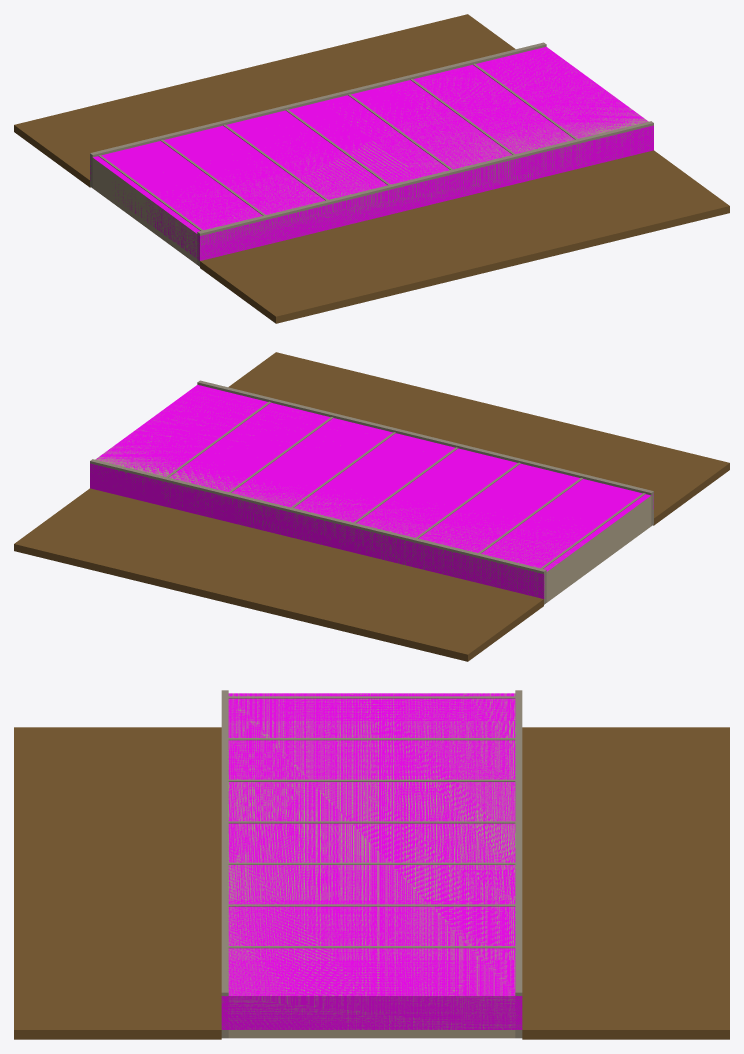
File: barrio-abajo-suelo-anden-alto.glb
3 views of the same model, one above another, from view 1: azimuth 30°, elevation 25°; view 2: azimuth 150°, elevation 25°; view 3: azimuth 270°, elevation 25° (orthographic). The views are drawn at different scales.
Visible parts, largest first — view 1: suelo_anden_alto_Tierra, COL_Anden, suelo_anden_alto_Piedra, suelo_anden_alto_AndenAlto; view 2: suelo_anden_alto_Tierra, COL_Anden, suelo_anden_alto_Piedra, suelo_anden_alto_AndenAlto; view 3: suelo_anden_alto_Tierra, COL_Anden, suelo_anden_alto_AndenAlto, suelo_anden_alto_Piedra.
Part boxes in pixels (x1,y1,x2,y2): suelo_anden_alto_Tierra: [14, 14, 729, 323]; COL_Anden: [90, 47, 653, 260]; suelo_anden_alto_Piedra: [90, 42, 653, 266]; suelo_anden_alto_AndenAlto: [92, 51, 648, 264]; suelo_anden_alto_Tierra: [14, 352, 729, 661]; COL_Anden: [90, 385, 653, 598]; suelo_anden_alto_Piedra: [90, 380, 653, 604]; suelo_anden_alto_AndenAlto: [95, 396, 651, 602]; suelo_anden_alto_Tierra: [14, 727, 729, 1039]; COL_Anden: [221, 693, 522, 1029]; suelo_anden_alto_AndenAlto: [228, 693, 515, 1038]; suelo_anden_alto_Piedra: [221, 690, 522, 1038].
Size of the model in its own units: 8 by 0.58 by 8.
